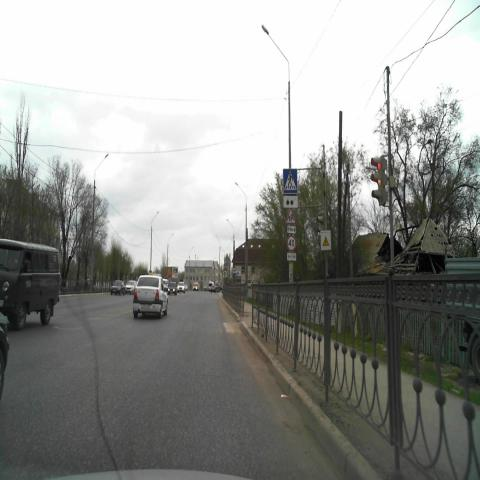8_15: (284, 194, 298, 208)
